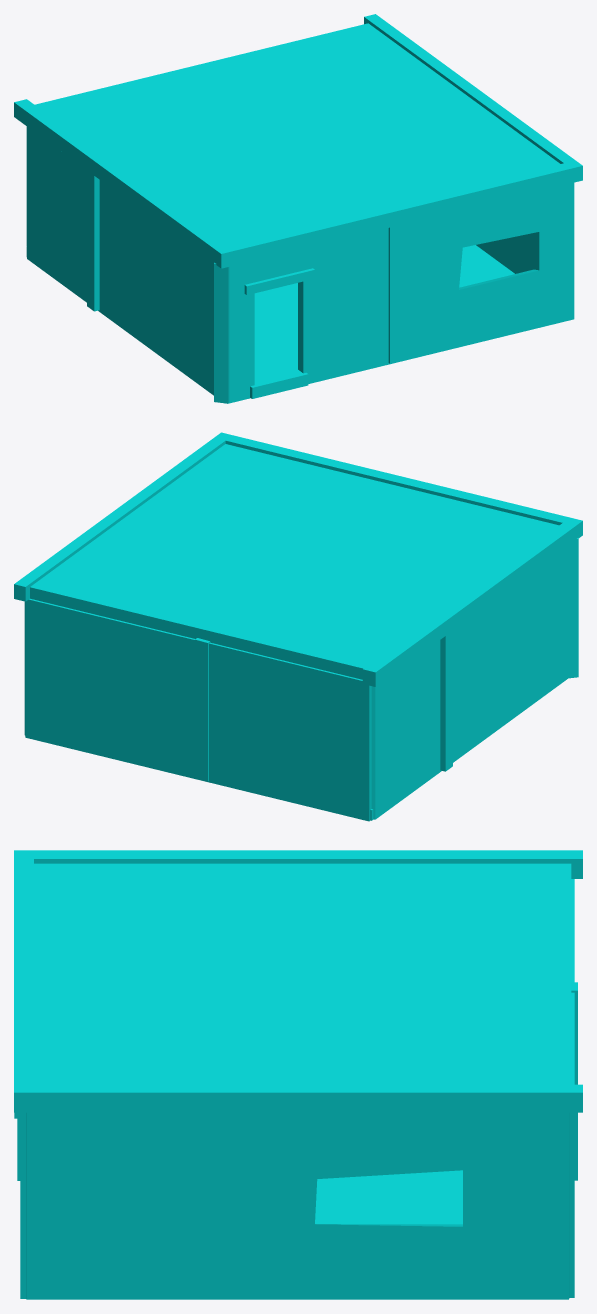
The model's file is SM_Bld_Building_06_Collision.fbx.
The picture shows the model from 3 angles, top to bottom: view 1: azimuth 30°, elevation 25°; view 2: azimuth 150°, elevation 25°; view 3: azimuth 270°, elevation 25°; orthographic projection. The views are drawn at different scales.
Visible parts, largest first — view 1: SM_Bld_Building_06_Collision; view 2: SM_Bld_Building_06_Collision; view 3: SM_Bld_Building_06_Collision.
Boxes of the visible parts, left/top/right/bottom form: SM_Bld_Building_06_Collision: left=14, top=14, right=582, bottom=403; SM_Bld_Building_06_Collision: left=14, top=432, right=582, bottom=821; SM_Bld_Building_06_Collision: left=14, top=850, right=582, bottom=1299.
Bounding box in the file's own units: 792 × 320 × 783.
